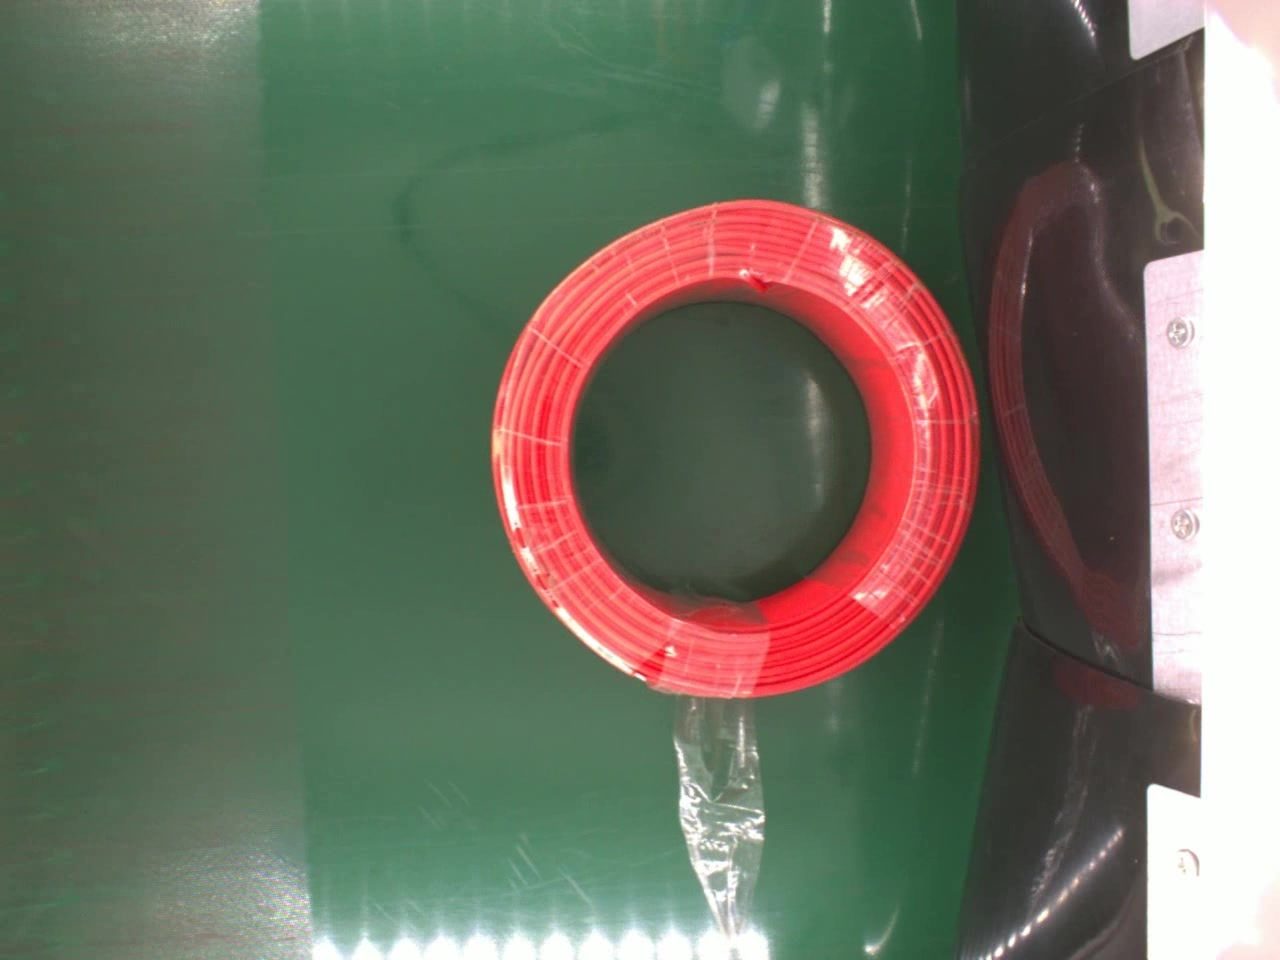red: (488, 195, 984, 702)
